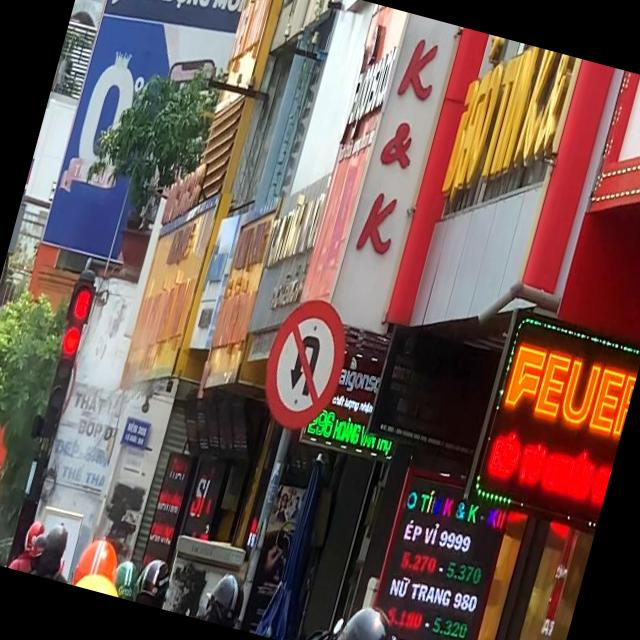P-124a1: (250, 291, 356, 438)
